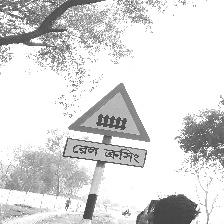Rail-crossing: (64, 83, 151, 168)
